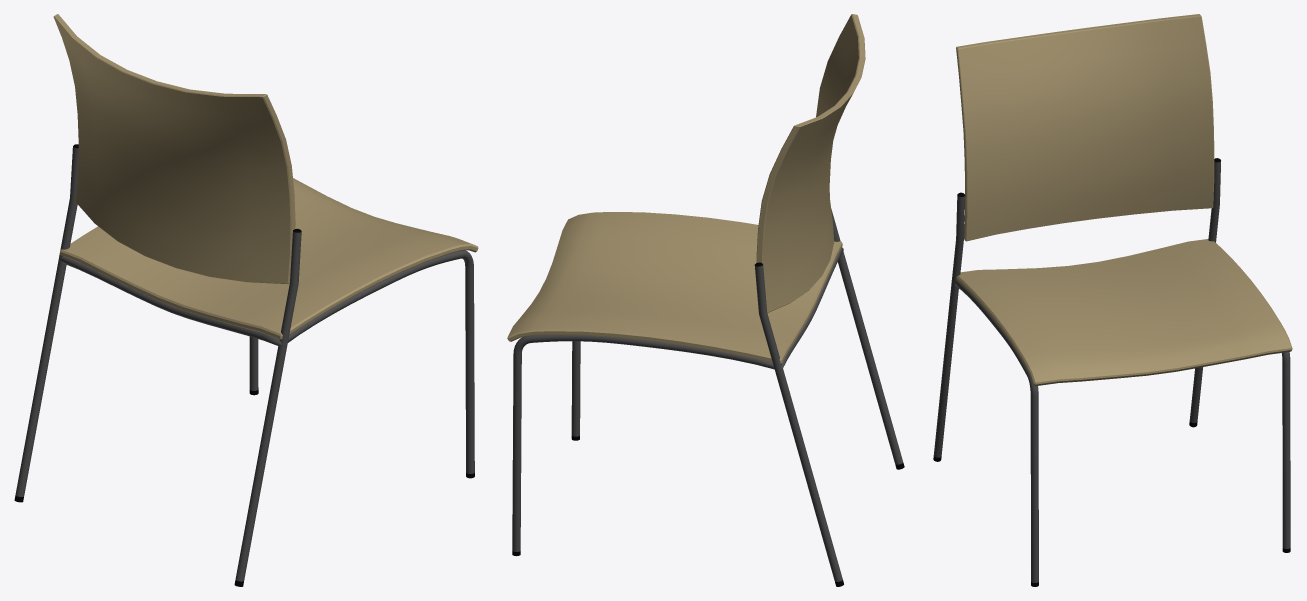
File: [simple]chair_1.FBX
3 renders of one model, left to right at view 1: azimuth 30°, elevation 25°; view 2: azimuth 150°, elevation 25°; view 3: azimuth 270°, elevation 25°, orthographic. The views are drawn at different scales.
Parts seen in each view (by area): view 1: Seating - Chair - interstuhl Cobra; view 2: Seating - Chair - interstuhl Cobra; view 3: Seating - Chair - interstuhl Cobra.
Part boxes in pixels (x1,y1,x2,y2): Seating - Chair - interstuhl Cobra: (14,14,478,586); Seating - Chair - interstuhl Cobra: (507,14,904,586); Seating - Chair - interstuhl Cobra: (933,14,1292,586).
Bounding box in the file's own units: 27.61 × 33.33 × 25.29.
